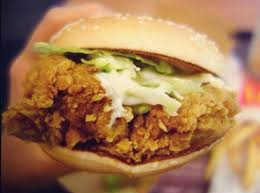hamburger: (28, 13, 239, 173)
